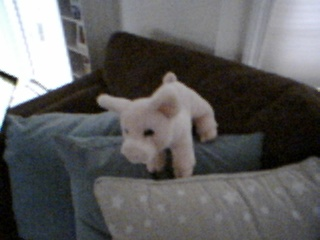piggy: (95, 69, 219, 181)
